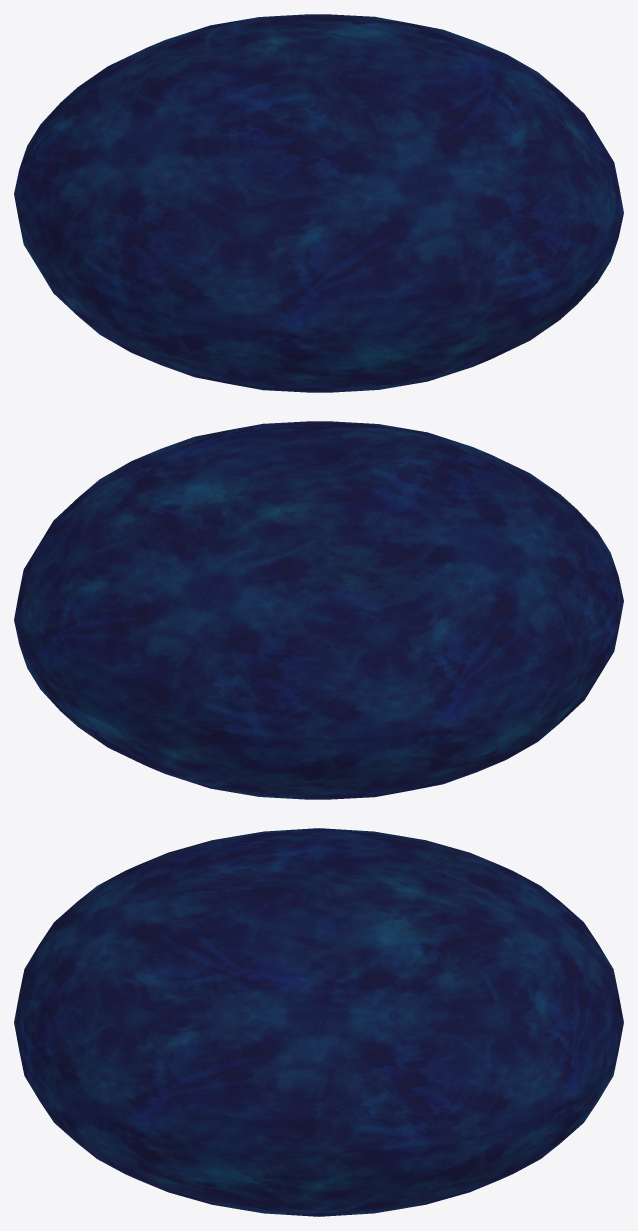
File: RimuruHA2026.scene.glb
The picture shows the model from 3 angles, top to bottom: view 1: azimuth 30°, elevation 25°; view 2: azimuth 150°, elevation 25°; view 3: azimuth 270°, elevation 25°; orthographic projection. The views are drawn at different scales.
Parts seen in each view (by area): view 1: Skybox; view 2: Skybox; view 3: Skybox.
Part boxes in pixels (<box>): Skybox: <box>14,14,623,392</box>; Skybox: <box>14,421,623,799</box>; Skybox: <box>14,828,623,1216</box>.
Size of the model in its own units: 849 by 425 by 849.
3 materials, 3 textured.
